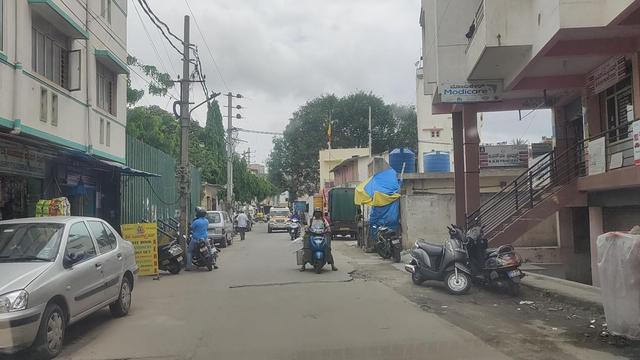LMV: (191, 206, 213, 272), (309, 208, 329, 275), (286, 208, 301, 242)
RoadDamages: (228, 270, 366, 293), (474, 331, 521, 360), (410, 297, 437, 314)
